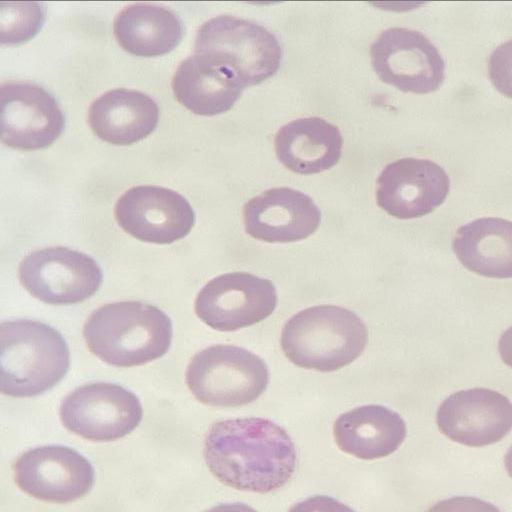Infected: (203, 415, 294, 490)
Uninfected: (280, 304, 365, 371), (82, 304, 173, 365), (186, 344, 269, 405), (368, 27, 444, 93), (200, 17, 279, 80), (194, 271, 276, 330), (114, 183, 194, 243), (18, 246, 100, 304), (60, 382, 139, 440), (241, 185, 319, 243), (13, 444, 92, 501), (174, 54, 247, 115), (375, 157, 448, 216), (436, 388, 509, 446), (0, 82, 63, 148), (272, 116, 344, 173), (87, 87, 158, 144), (334, 404, 405, 459), (113, 4, 179, 55)
